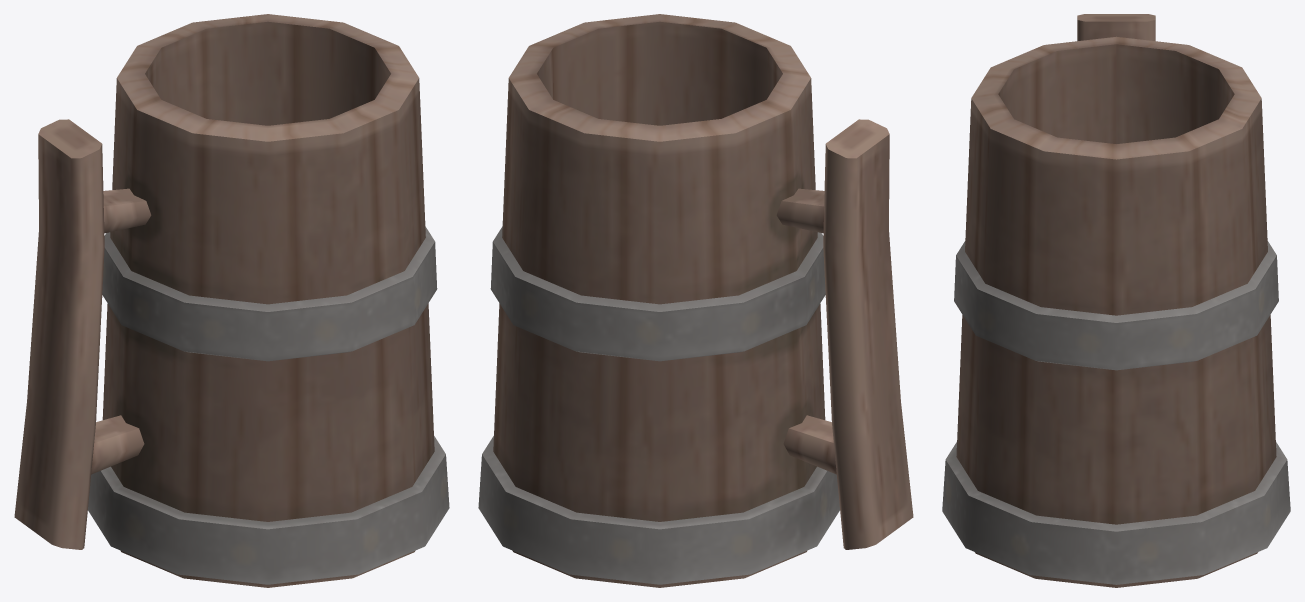
The picture shows the model from 3 angles, left to right: view 1: azimuth 30°, elevation 25°; view 2: azimuth 150°, elevation 25°; view 3: azimuth 270°, elevation 25°; orthographic projection. The views are drawn at different scales.
Visible parts, largest first — view 1: submesh_0; view 2: submesh_0; view 3: submesh_0.
Boxes of the visible parts, x1,y1,x2,y2 form: submesh_0: [14, 14, 449, 587]; submesh_0: [478, 14, 913, 587]; submesh_0: [942, 14, 1290, 587].
Bounding box in the file's own units: 0.3065 × 0.3307 × 0.2458.
1 material, 1 textured.
